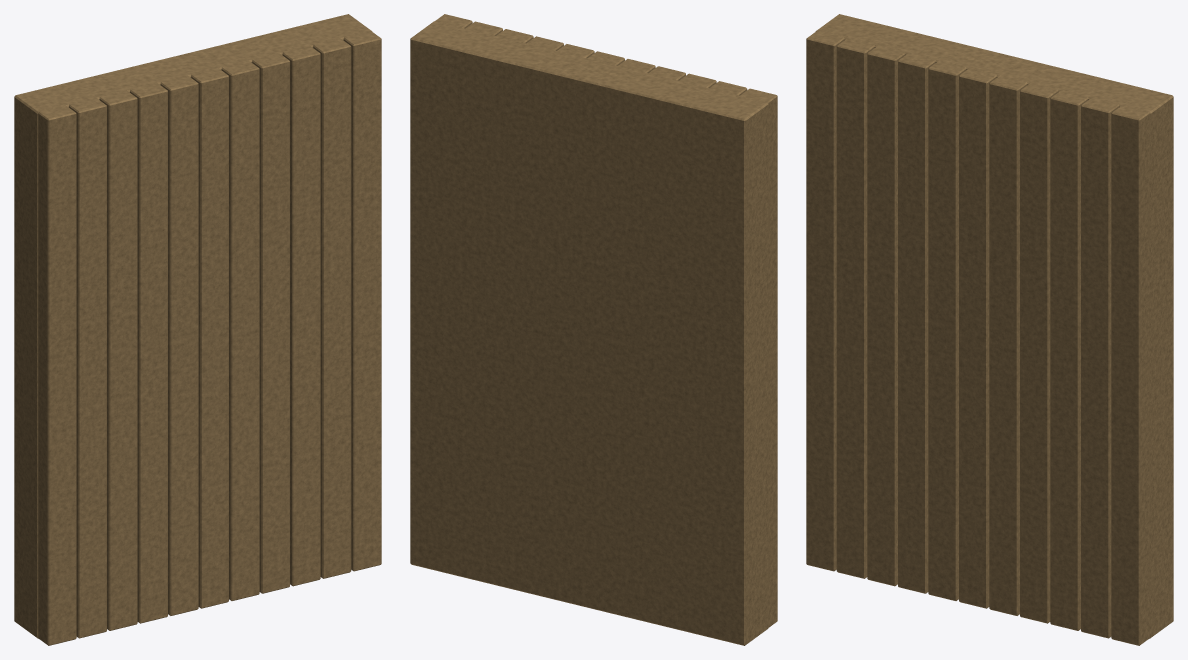
Rendered from TUNN21CC_lod1.glb.
3 renders of one model, left to right at view 1: azimuth 30°, elevation 25°; view 2: azimuth 150°, elevation 25°; view 3: azimuth 330°, elevation 25°, orthographic.
Visible parts, largest first — view 1: TUNN21CC_LOD1; view 2: TUNN21CC_LOD1; view 3: TUNN21CC_LOD1.
Boxes of the visible parts, left/top/right/bottom form: TUNN21CC_LOD1: left=14, top=14, right=381, bottom=645; TUNN21CC_LOD1: left=410, top=14, right=777, bottom=645; TUNN21CC_LOD1: left=806, top=14, right=1173, bottom=645.
Bounding box in the file's own units: 2 × 3 × 0.35.
2 materials, 2 textured.
